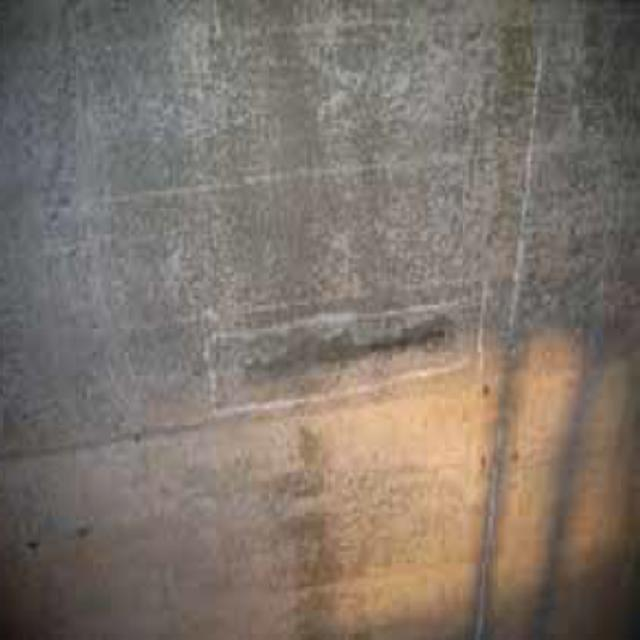spalling: (216, 314, 468, 407)
